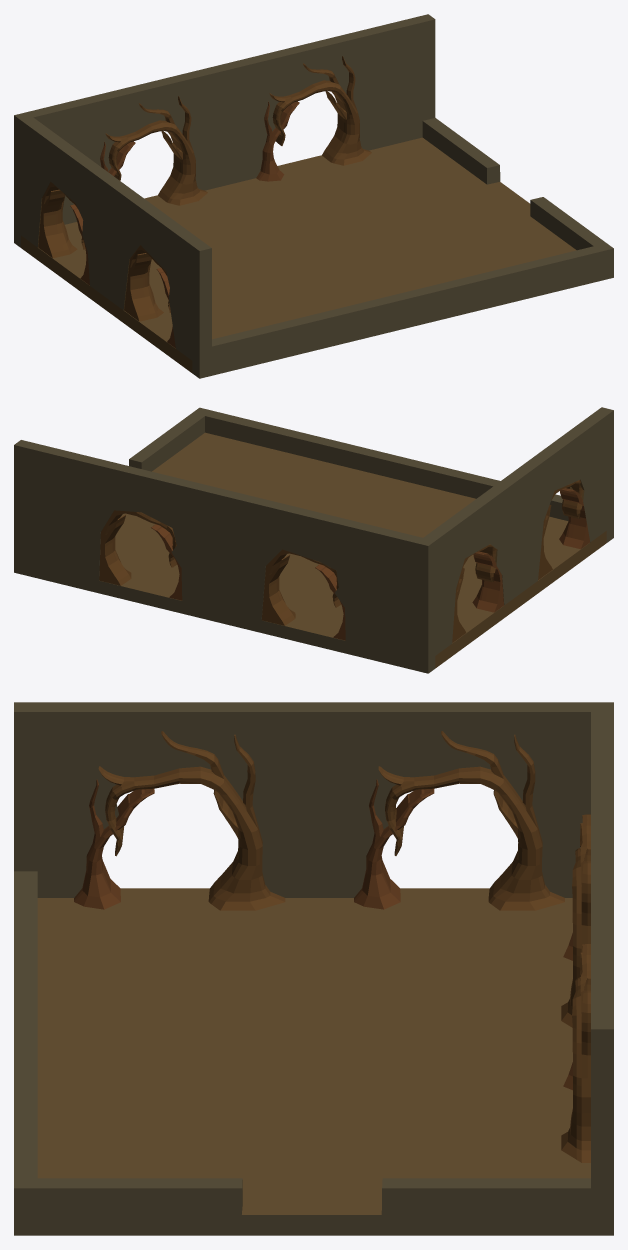
File: salaMedianaCuatroPuertasNaturaleza.fbx
3 renders of one model, top to bottom at view 1: azimuth 30°, elevation 25°; view 2: azimuth 150°, elevation 25°; view 3: azimuth 270°, elevation 25°, orthographic. The views are drawn at different scales.
Parts seen in each view (by area): view 1: Cubo.016, Cubo.018, Cubo.015, Cubo.017, Cubo.020, Cubo.014, ARBOL.007; view 2: Cubo.016, Cubo.018, Cubo.015, Cubo.017, ARBOL.006, ARBOL.009, Cubo.014, Cubo.020, ARBOL.007, ARBOL.010; view 3: Cubo.018, Cubo.016, Cubo.020, Cubo.014, Cubo.015, ARBOL.006, ARBOL.009, Cubo.017.
Boxes of the visible parts, <box> form: Cubo.016: <box>14,14,613,378</box>; Cubo.018: <box>38,137,576,348</box>; Cubo.015: <box>269,56,371,165</box>; Cubo.017: <box>105,96,207,205</box>; Cubo.020: <box>124,245,170,321</box>; Cubo.014: <box>38,182,85,258</box>; ARBOL.007: <box>256,101,299,181</box>; Cubo.016: <box>14,407,613,673</box>; Cubo.018: <box>99,432,588,643</box>; Cubo.015: <box>99,510,177,585</box>; Cubo.017: <box>261,549,341,625</box>; ARBOL.006: <box>472,551,503,612</box>; ARBOL.009: <box>559,488,589,549</box>; Cubo.014: <box>452,544,496,642</box>; Cubo.020: <box>538,480,582,579</box>; ARBOL.007: <box>151,524,182,600</box>; ARBOL.010: <box>315,564,345,640</box>; Cubo.018: <box>37,888,590,1214</box>; Cubo.016: <box>14,702,613,1235</box>; Cubo.020: <box>98,731,285,910</box>; Cubo.014: <box>378,731,564,910</box>; Cubo.015: <box>561,944,590,1162</box>; ARBOL.006: <box>354,779,434,909</box>; ARBOL.009: <box>74,779,154,909</box>; Cubo.017: <box>561,814,590,1027</box>.
Bounding box in the file's own units: 2060 × 607 × 1598.
